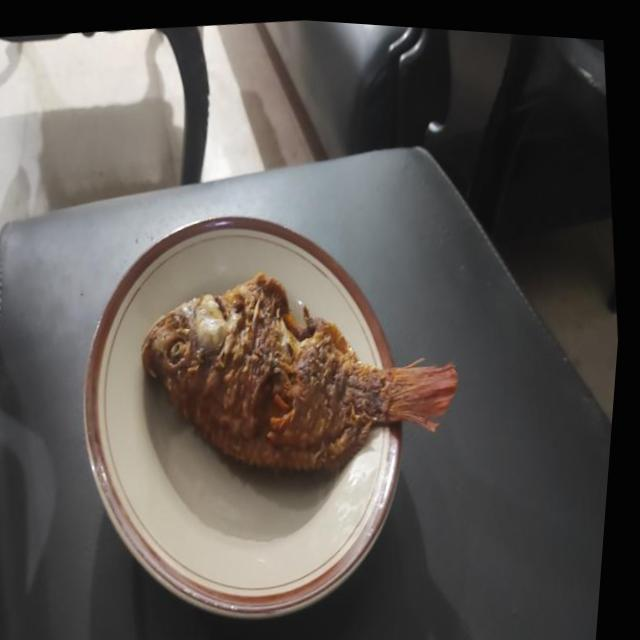ikan_mujair: (142, 272, 457, 469)
